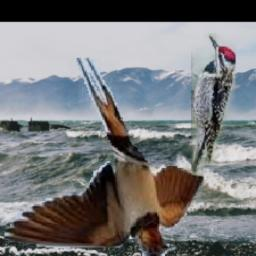Swallow: (5, 58, 207, 256)
Woodpecker: (190, 34, 234, 175)
